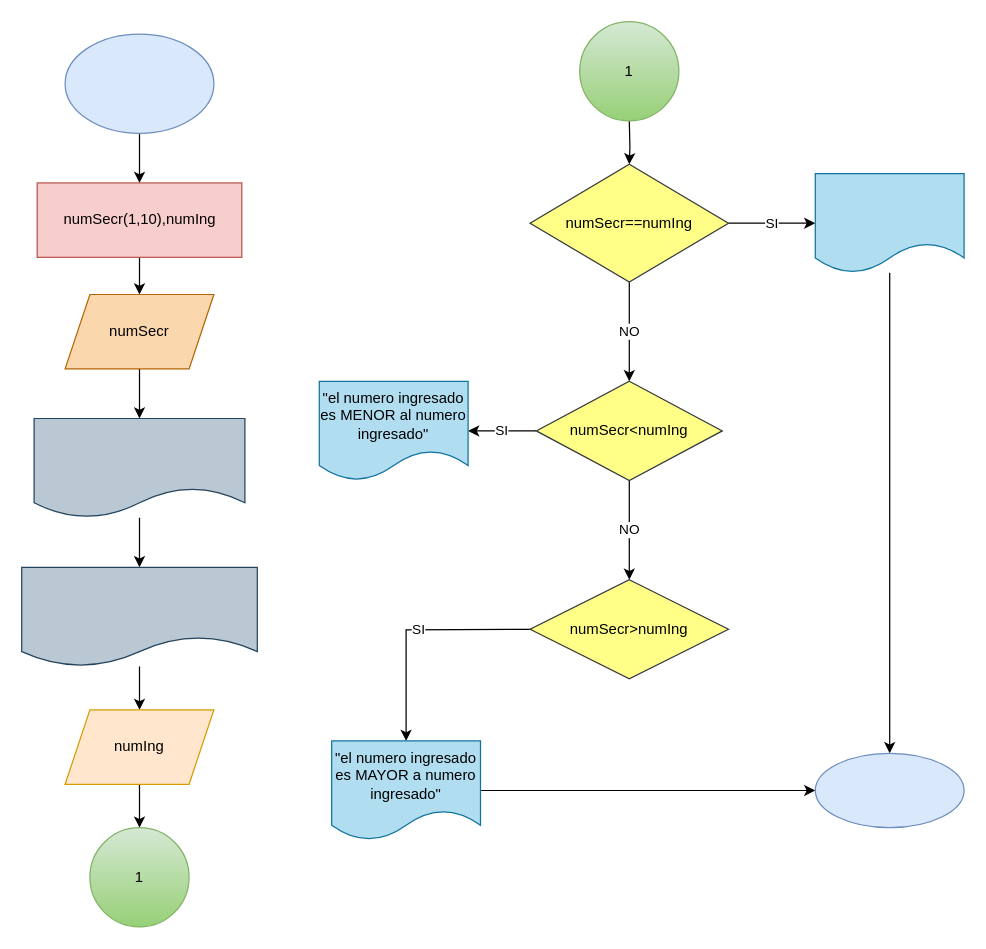
Some shapes in this 986 by 949 pixel diagram are drawn without their labels. Each missing label, with the box of its shape:
"Bienvenido a numero Secreto": (33, 417, 245, 518)
"Felicidades": (814, 172, 964, 273)
"Ingresa un numero del 1 al 10": (20, 566, 257, 666)
FIN: (814, 752, 964, 828)
inicio: (64, 33, 214, 133)
